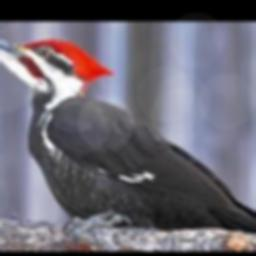Woodpecker: (0, 31, 256, 240)
